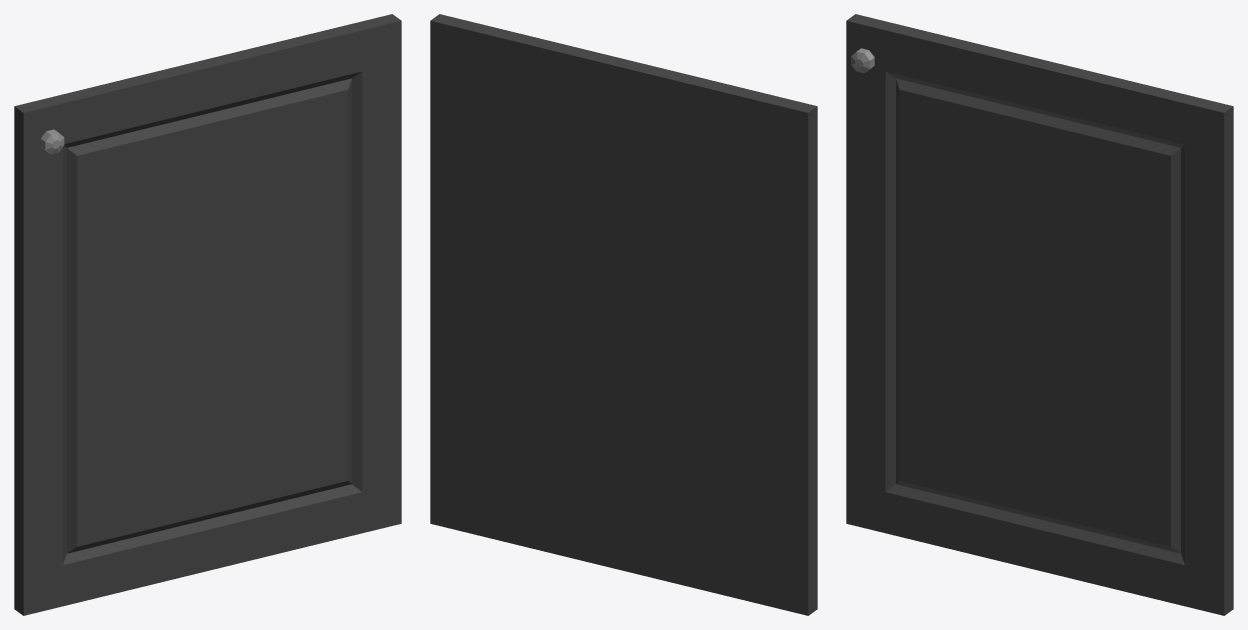
The model's file is Door3_C3_01.fbx.
3 renders of one model, left to right at view 1: azimuth 30°, elevation 25°; view 2: azimuth 150°, elevation 25°; view 3: azimuth 330°, elevation 25°, orthographic.
Parts seen in each view (by area): view 1: Door3_C3_01; view 2: Door3_C3_01; view 3: Door3_C3_01.
Part boxes in pixels (box(x1,y1,x2,y2)): Door3_C3_01: box(14, 14, 401, 615); Door3_C3_01: box(430, 14, 817, 615); Door3_C3_01: box(846, 14, 1233, 615).
Bounding box in the file's own units: 59 × 75 × 5.19.
